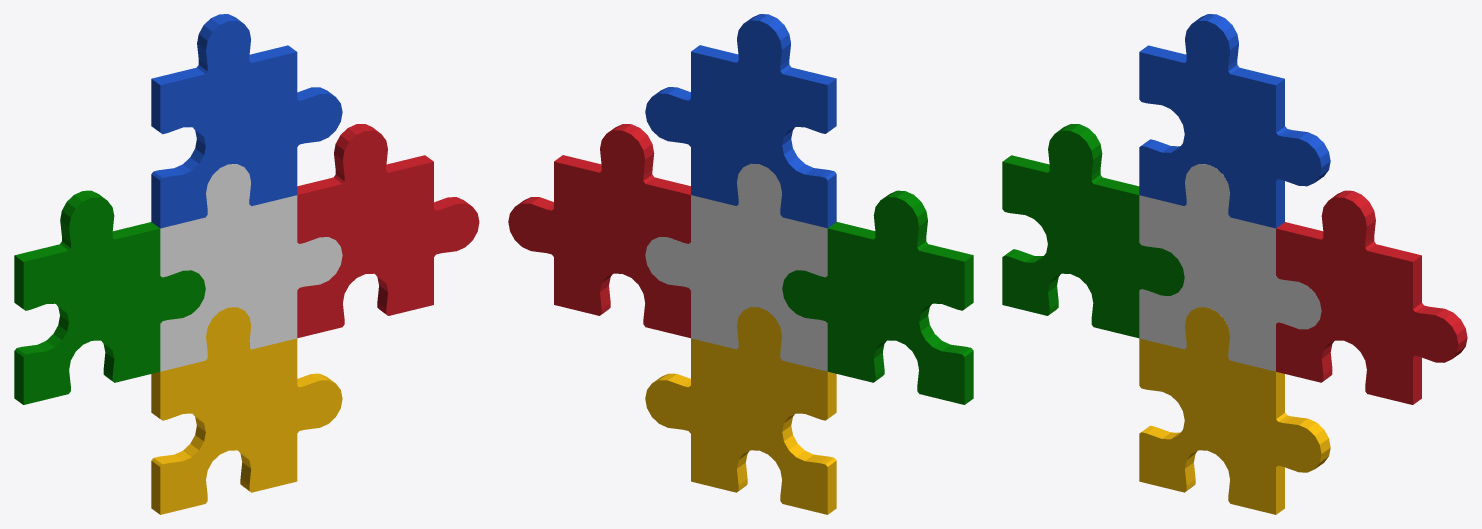
The model's file is Puzzle Pieces.fbx.
The picture shows the model from 3 angles, left to right: view 1: azimuth 30°, elevation 25°; view 2: azimuth 150°, elevation 25°; view 3: azimuth 330°, elevation 25°; orthographic projection.
Visible parts, largest first — view 1: Puzzle Piece 2, Puzzle Piece 4, Puzzle Piece 5, Puzzle Piece 3, Puzzle Piece 1; view 2: Puzzle Piece 2, Puzzle Piece 4, Puzzle Piece 5, Puzzle Piece 3, Puzzle Piece 1; view 3: Puzzle Piece 3, Puzzle Piece 4, Puzzle Piece 2, Puzzle Piece 5, Puzzle Piece 1.
Part boxes in pixels (<box>): Puzzle Piece 2: <box>14,190,205,404</box>; Puzzle Piece 4: <box>151,14,342,228</box>; Puzzle Piece 5: <box>151,307,342,514</box>; Puzzle Piece 3: <box>297,124,479,338</box>; Puzzle Piece 1: <box>160,164,342,371</box>; Puzzle Piece 2: <box>782,190,973,404</box>; Puzzle Piece 4: <box>645,14,836,228</box>; Puzzle Piece 5: <box>645,307,836,514</box>; Puzzle Piece 3: <box>508,124,690,338</box>; Puzzle Piece 1: <box>645,163,827,371</box>; Puzzle Piece 3: <box>1276,190,1467,404</box>; Puzzle Piece 4: <box>1139,14,1330,228</box>; Puzzle Piece 2: <box>1002,124,1184,338</box>; Puzzle Piece 5: <box>1139,307,1330,514</box>; Puzzle Piece 1: <box>1139,164,1321,371</box>.
Bounding box in the file's own units: 500 × 500 × 17.12.
